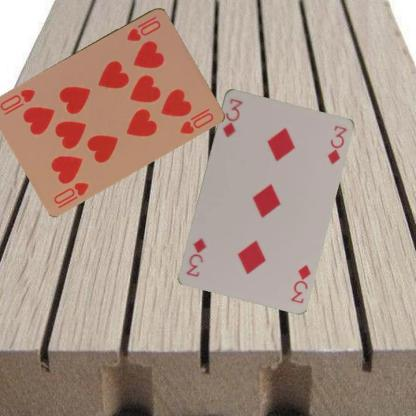10h: (124, 13, 162, 43), (51, 178, 91, 205)
3d: (219, 95, 244, 139), (288, 261, 312, 305)
